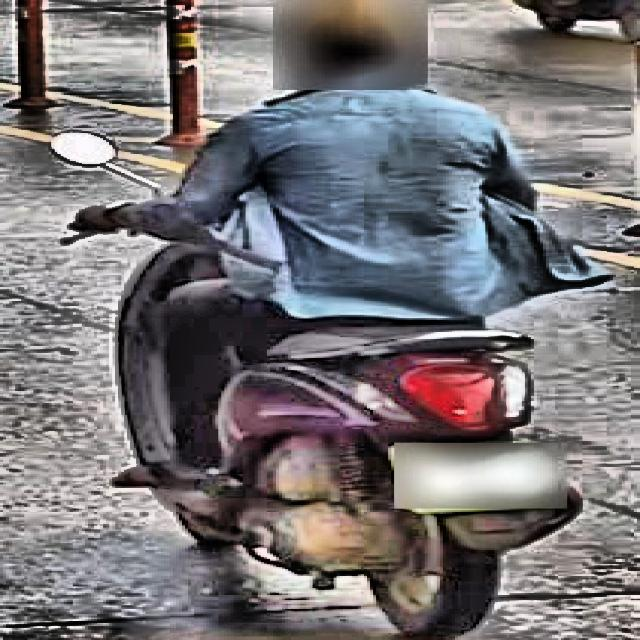motorcycle: (0, 127, 579, 638)
